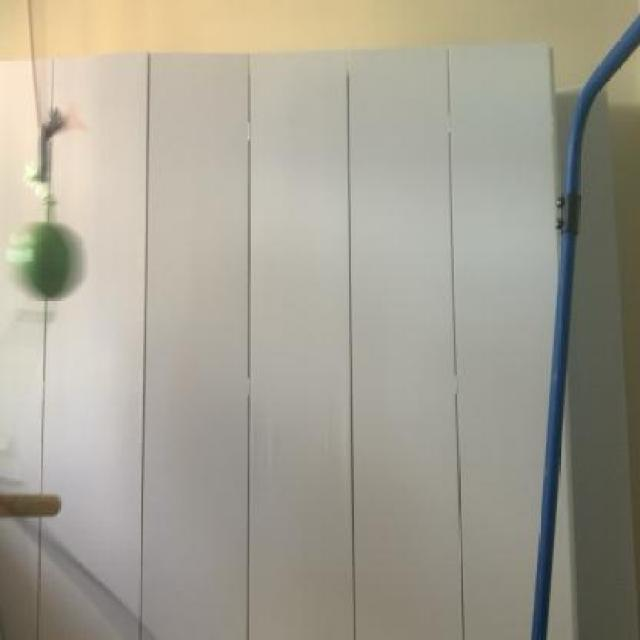baseball: (12, 210, 92, 301)
